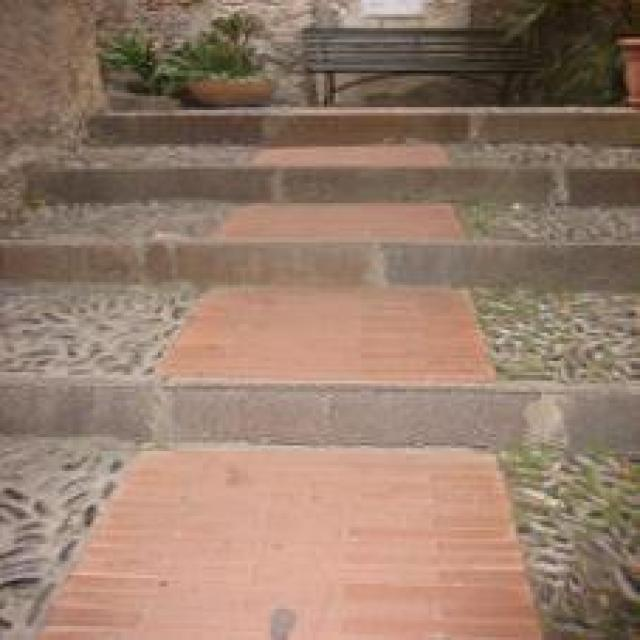upstair: (91, 103, 610, 461)
